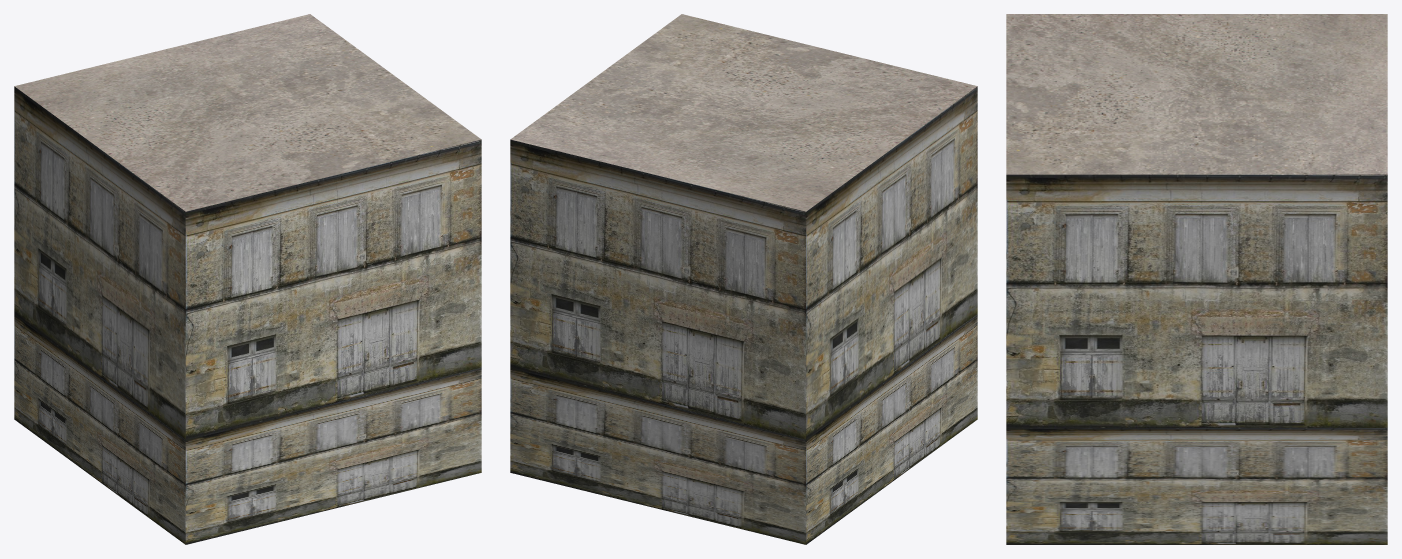
The model's file is BagBuilding10_0.fbx.
3 views of the same model, side by side, from view 1: azimuth 30°, elevation 25°; view 2: azimuth 150°, elevation 25°; view 3: azimuth 270°, elevation 25° (orthographic). The views are drawn at different scales.
Parts seen in each view (by area): view 1: Box0, Roof0, BoxA0; view 2: Box0, Roof0, BoxA0; view 3: Box0, Roof0, BoxA0.
Part boxes in pixels (box(x1,y1,x2,y2)): Box0: box(14, 86, 481, 439); Roof0: box(14, 14, 481, 211); BoxA0: box(14, 314, 481, 544); Box0: box(510, 86, 977, 439); Roof0: box(510, 14, 977, 211); BoxA0: box(510, 314, 977, 544); Box0: box(1006, 174, 1387, 427); Roof0: box(1006, 14, 1387, 174); BoxA0: box(1006, 427, 1387, 544).
Bounding box in the file's own units: 18.33 × 19.72 × 18.4.
